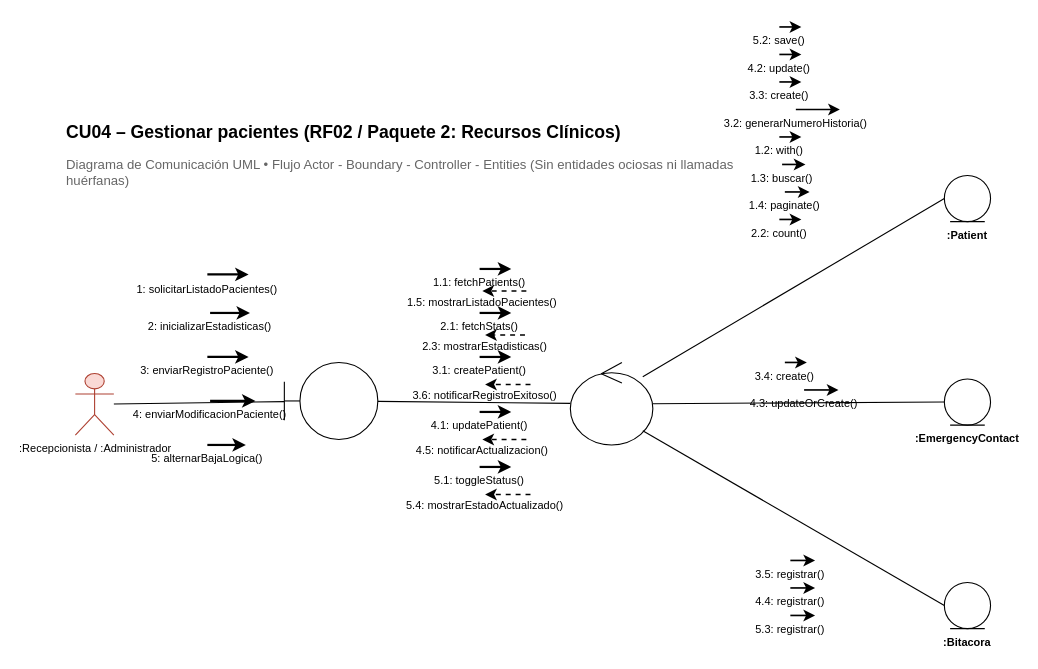
Some shapes in this 1038 by 669 pixel diagram are drawn without their labels. The shapes that lost their labels are listed below. From the top down, each one's box as (x1, y1, x2, y2) in pixels, then its label:
(283, 361, 378, 439): :PatientsManager
(569, 361, 653, 445): :PatientsController
